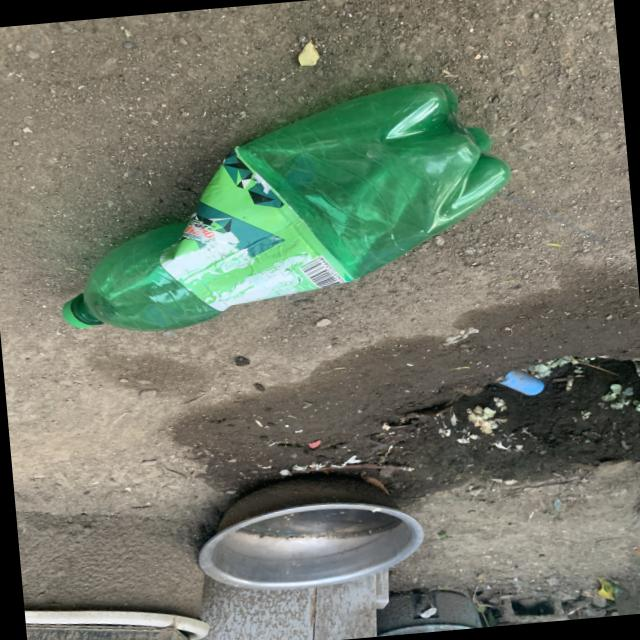Bottle: (62, 83, 510, 330)
